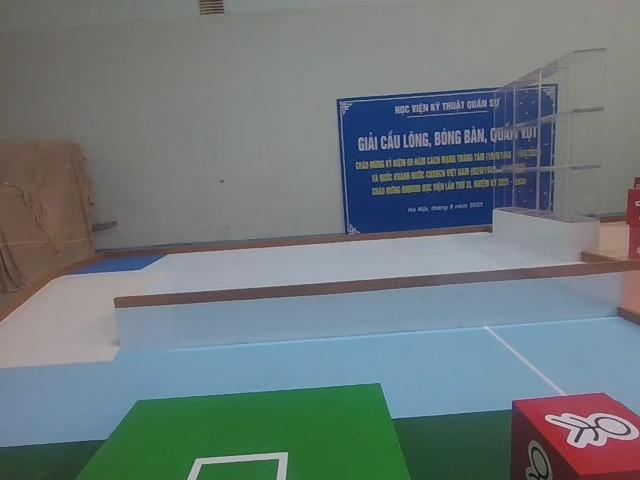R2 Real: (504, 386, 640, 480)
